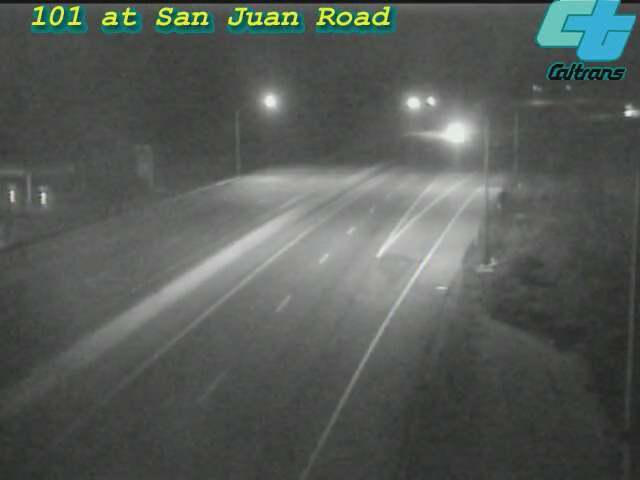vehicle: (429, 107, 479, 157), (609, 85, 640, 135)
